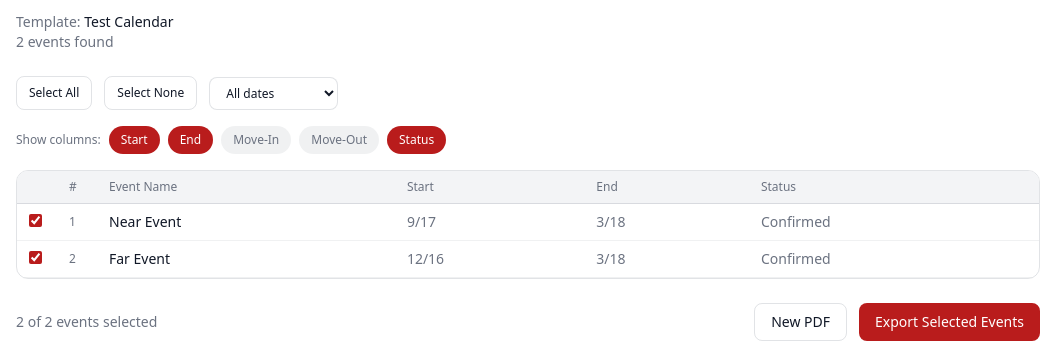
ResultsPage › date range filter › filters events by date range
Select "Next 30 days" in the dropdown named "Date range filter" at (274, 93), box [209,76,338,110]
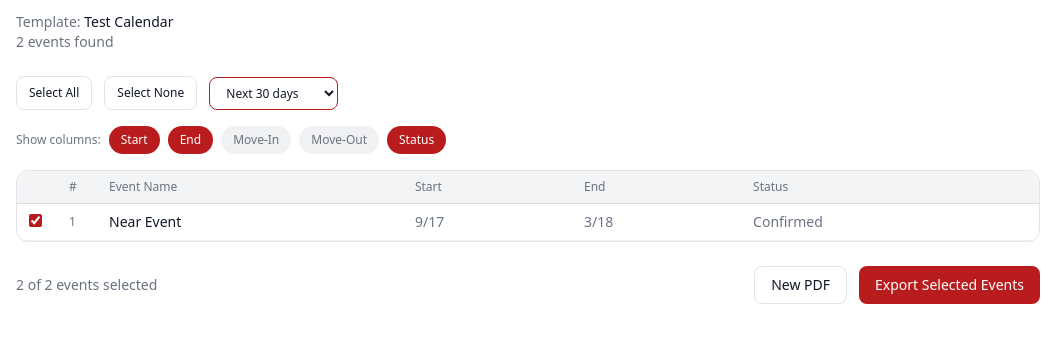
Expected: the button "Near Event" is shown, [109,212,181,232]
Now the button "Far Event" is gone
